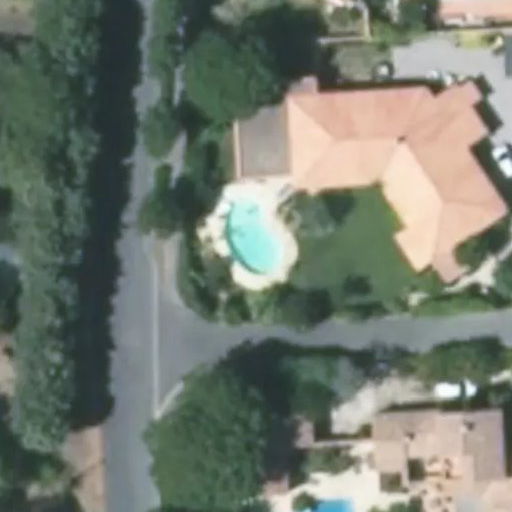pool: (223, 200, 288, 279)
